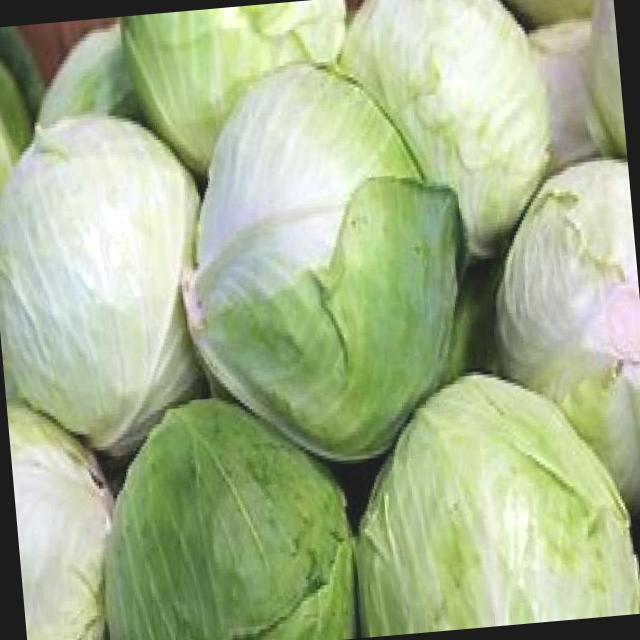cabbage: (169, 51, 475, 472), (331, 353, 640, 638), (0, 107, 216, 444)
